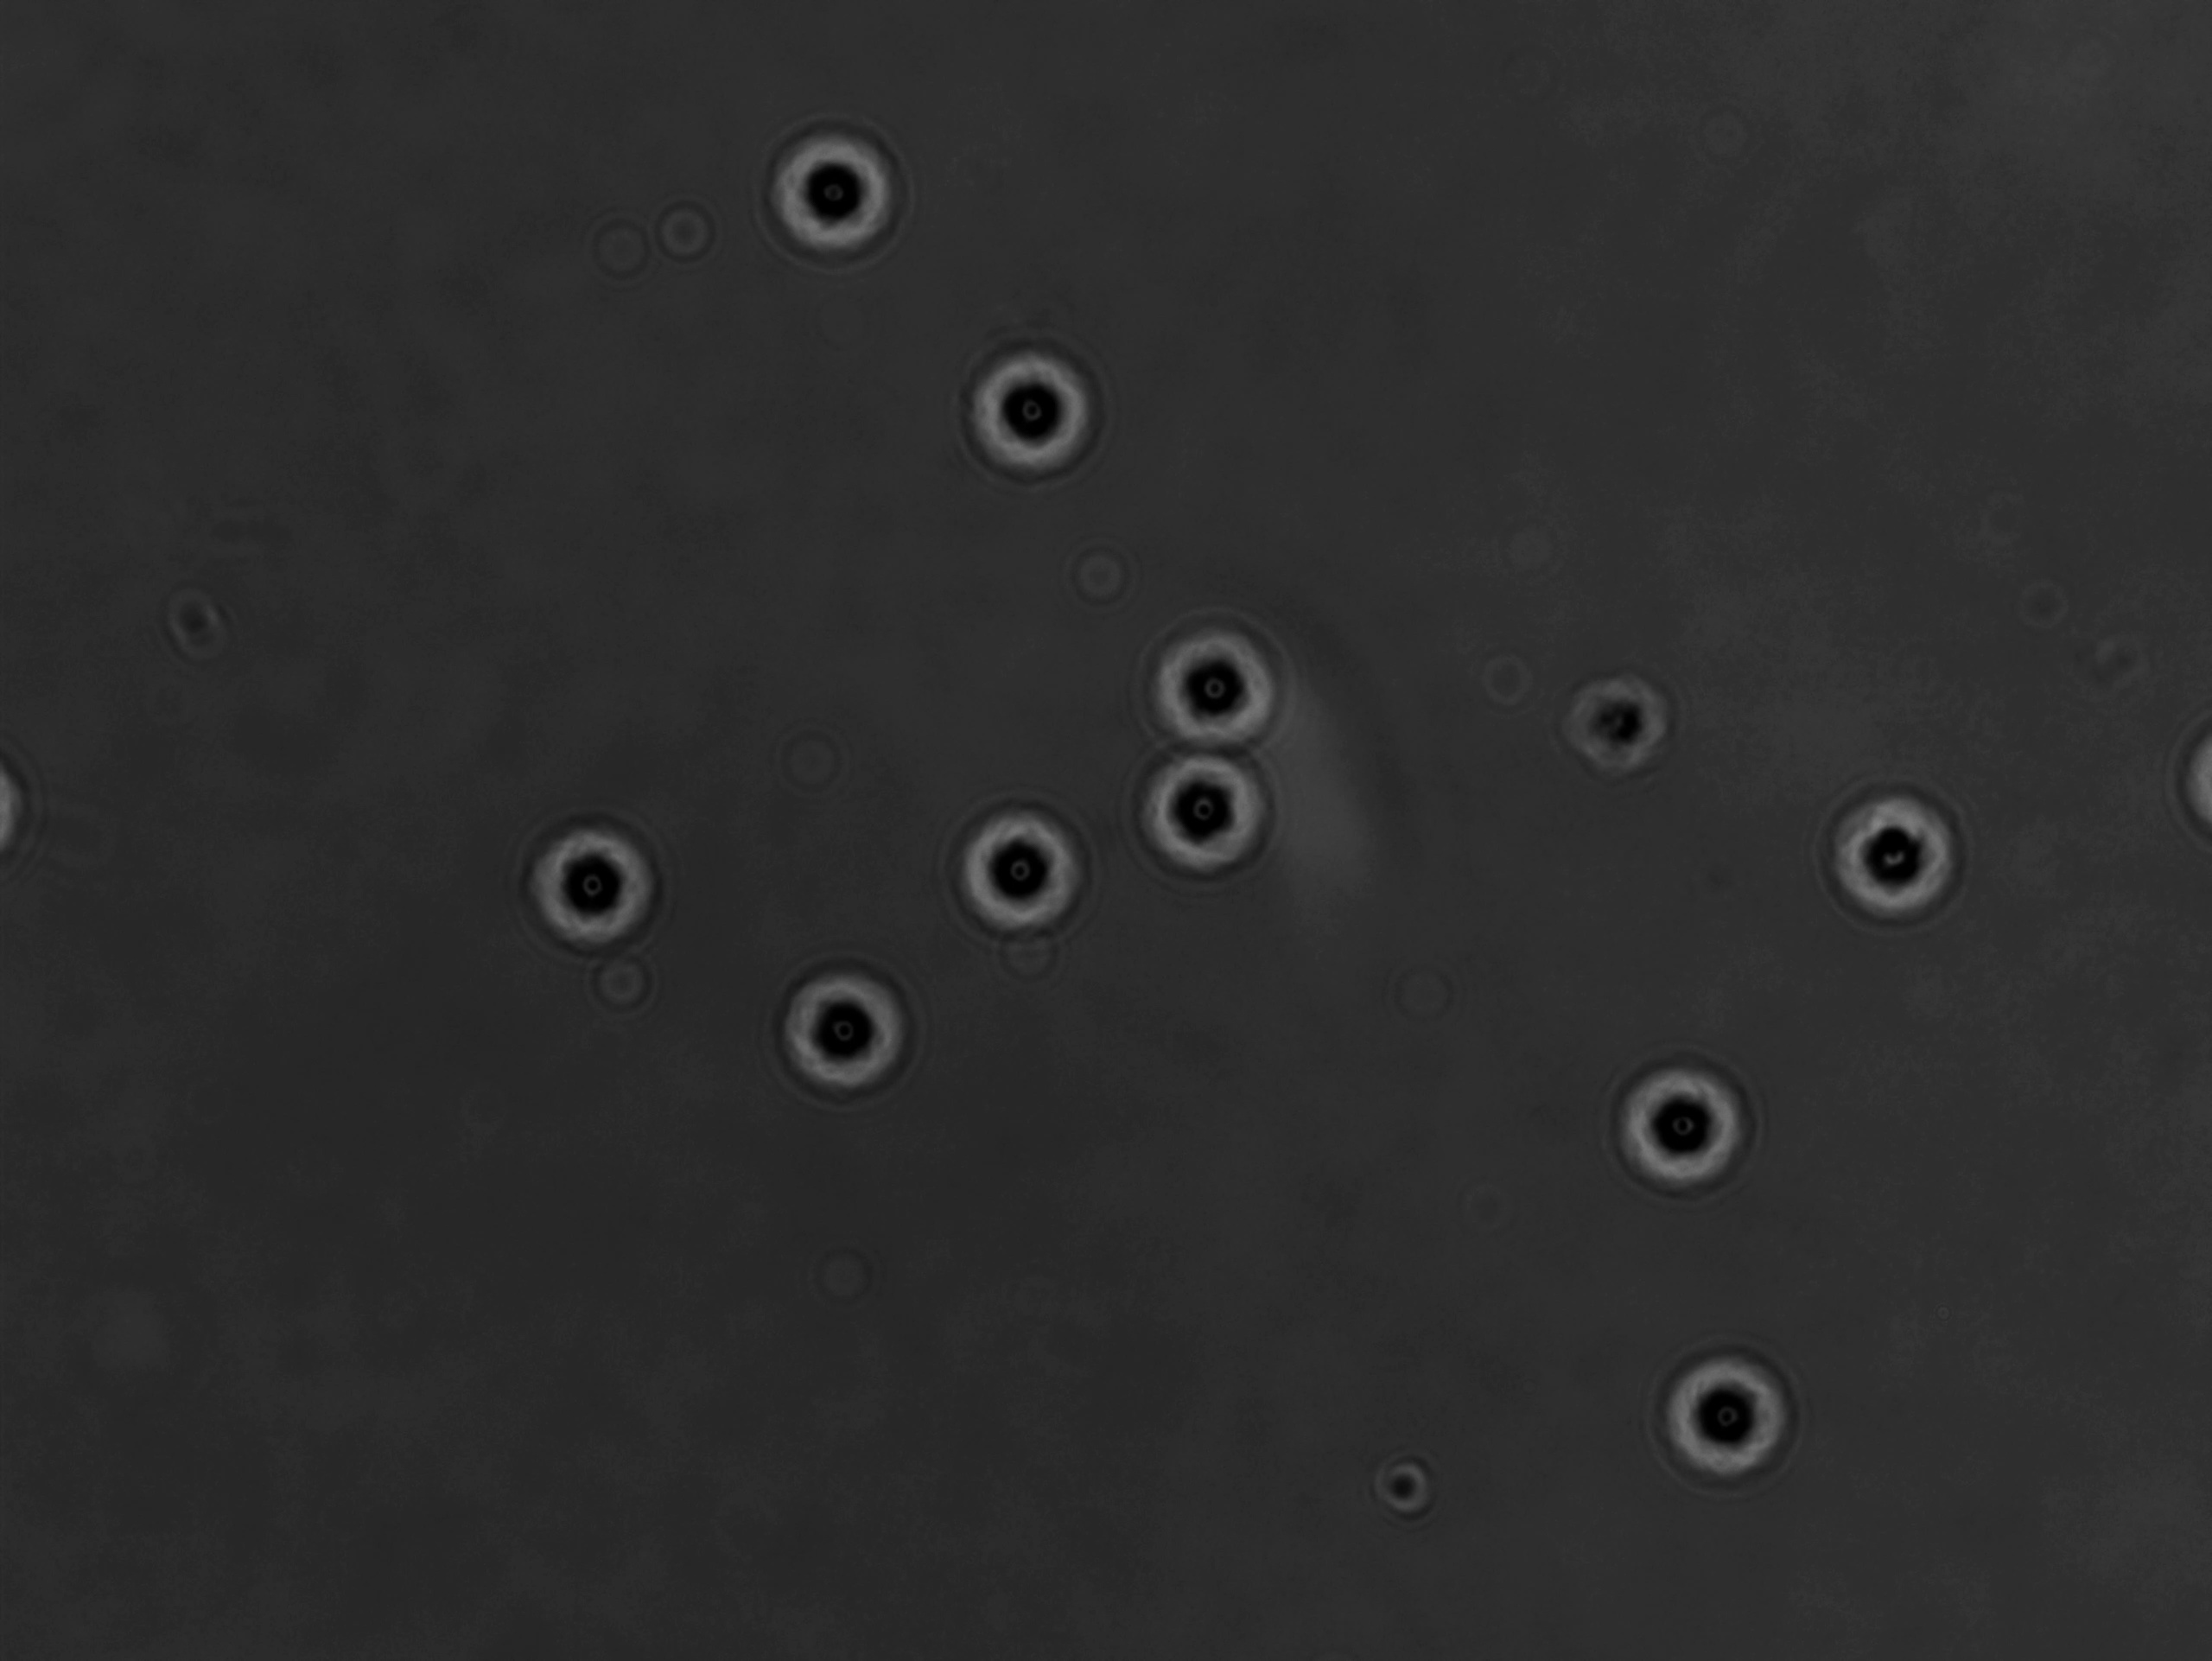depth:-20: (1814, 761, 1989, 937), (1593, 1040, 1774, 1209), (515, 792, 684, 968), (1134, 598, 1312, 764), (1642, 1324, 1809, 1494), (937, 792, 1108, 956), (947, 325, 1116, 489), (750, 106, 918, 270), (764, 953, 932, 1117), (1111, 738, 1287, 888), (1743, 1197, 1748, 1225)
